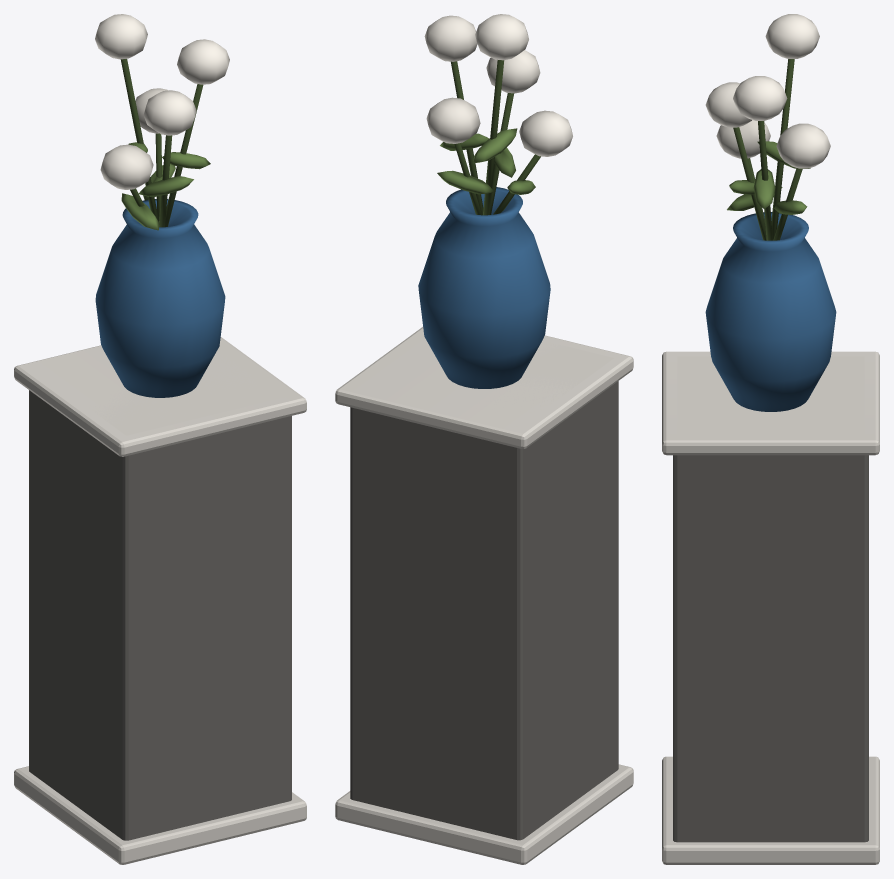
File: vasePedestal.glb
The picture shows the model from 3 angles, left to right: view 1: azimuth 30°, elevation 25°; view 2: azimuth 150°, elevation 25°; view 3: azimuth 270°, elevation 25°; orthographic projection.
Parts seen in each view (by area): view 1: vasePedestal; view 2: vasePedestal; view 3: vasePedestal.
Part boxes in pixels (bbox=[...]): vasePedestal: bbox=[14, 14, 306, 864]; vasePedestal: bbox=[335, 14, 633, 864]; vasePedestal: bbox=[662, 14, 879, 864].
Bounding box in the file's own units: 0.4 × 1.6 × 0.4.
